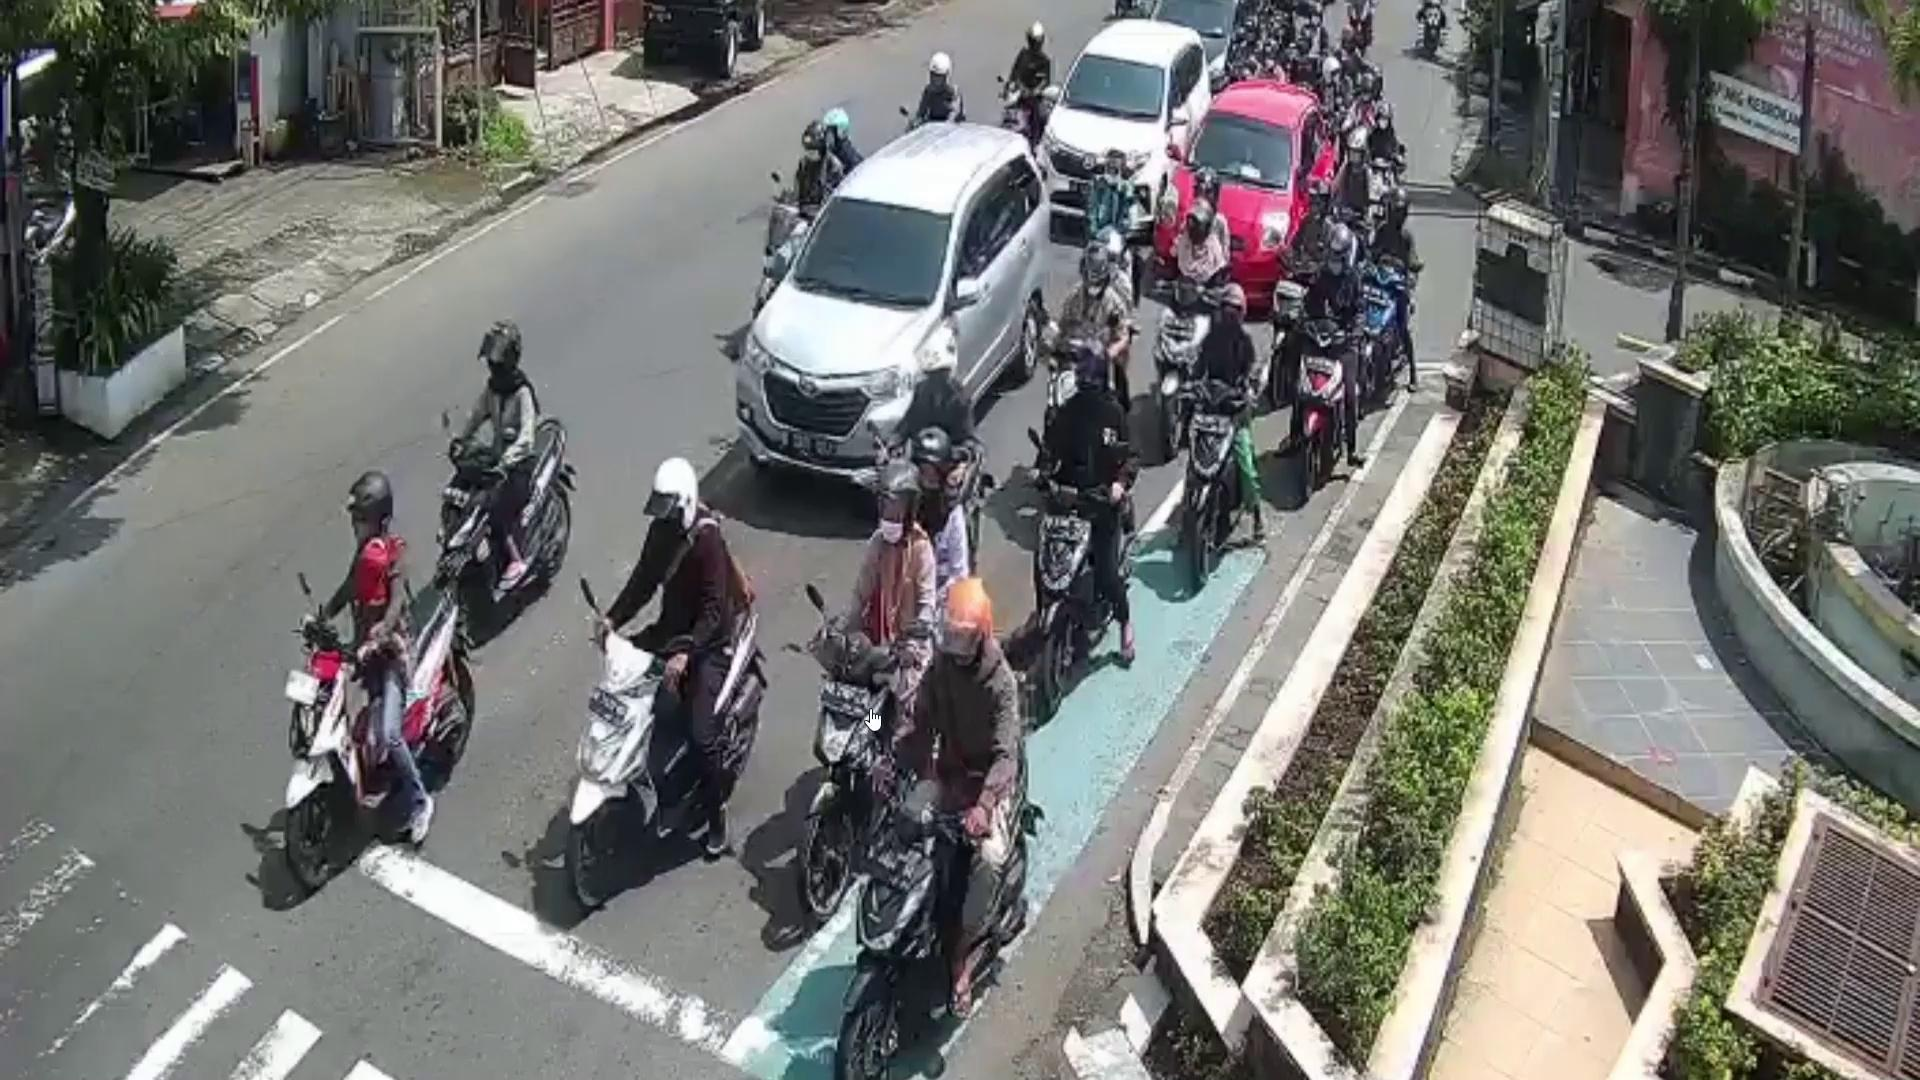car: (738, 120, 1050, 488), (1154, 74, 1338, 311), (1042, 13, 1211, 236), (1147, 0, 1251, 96)
motorbike: (272, 563, 476, 890), (837, 740, 1029, 1080), (568, 588, 756, 922), (434, 413, 572, 605), (793, 626, 876, 916), (1038, 473, 1104, 720), (1180, 373, 1238, 587), (1155, 268, 1211, 450), (1296, 309, 1346, 500), (1362, 253, 1406, 409)
